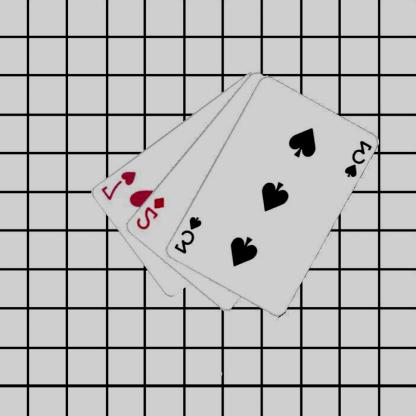2D: (135, 194, 167, 232)
3S: (173, 214, 204, 255), (343, 138, 374, 178)
7H: (99, 168, 139, 202)
